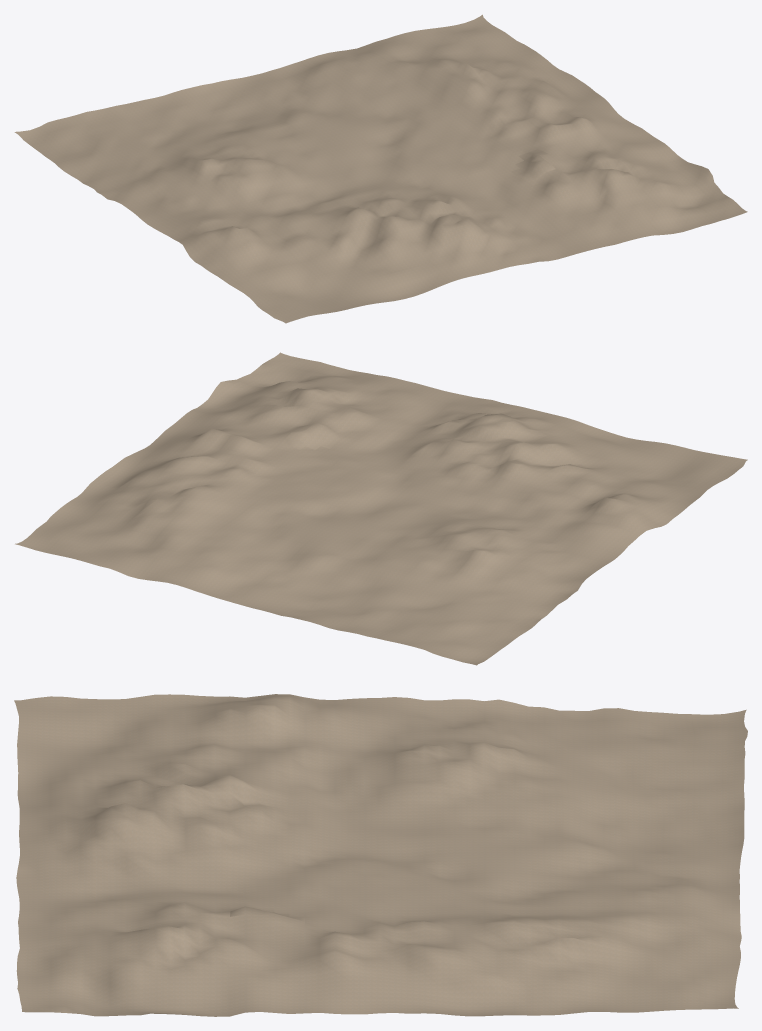
The model's file is M_shatan01.FBX.
3 views of the same model, one above another, from view 1: azimuth 30°, elevation 25°; view 2: azimuth 150°, elevation 25°; view 3: azimuth 270°, elevation 25° (orthographic). The views are drawn at different scales.
Visible parts, largest first — view 1: M_shatan01; view 2: M_shatan01; view 3: M_shatan01.
Part boxes in pixels (x1,y1,x2,y2): M_shatan01: (14,14,747,323); M_shatan01: (15,352,747,665); M_shatan01: (14,694,747,1016).
Size of the model in its own units: 177 by 10.83 by 173.
